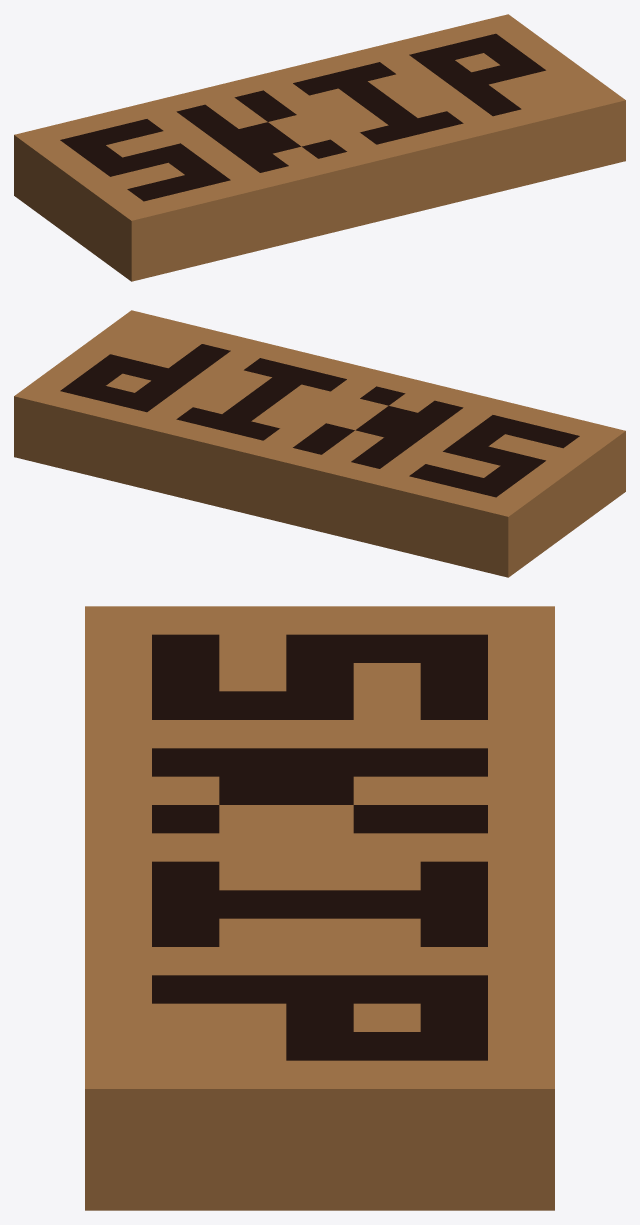
File: Skip.obj
3 views of the same model, one above another, from view 1: azimuth 30°, elevation 25°; view 2: azimuth 150°, elevation 25°; view 3: azimuth 270°, elevation 25° (orthographic). The views are drawn at different scales.
Bounding box in the file's own units: 1.7 × 0.2 × 0.7.
1 material, 1 textured.
